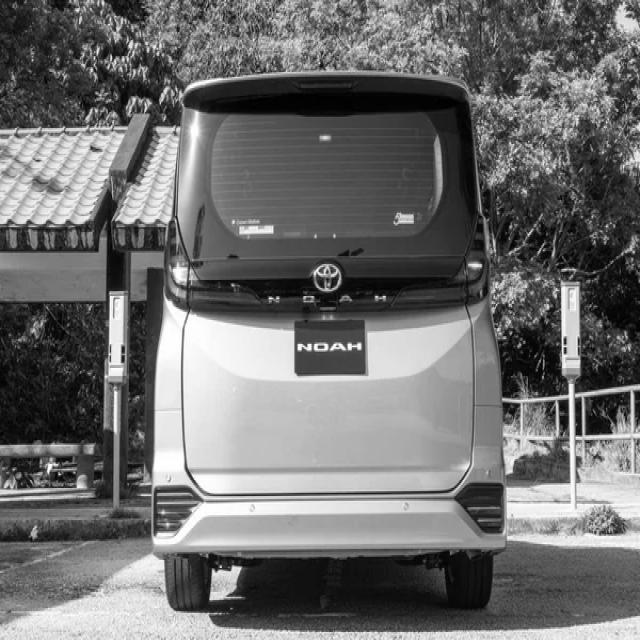Car: (151, 70, 508, 610)
